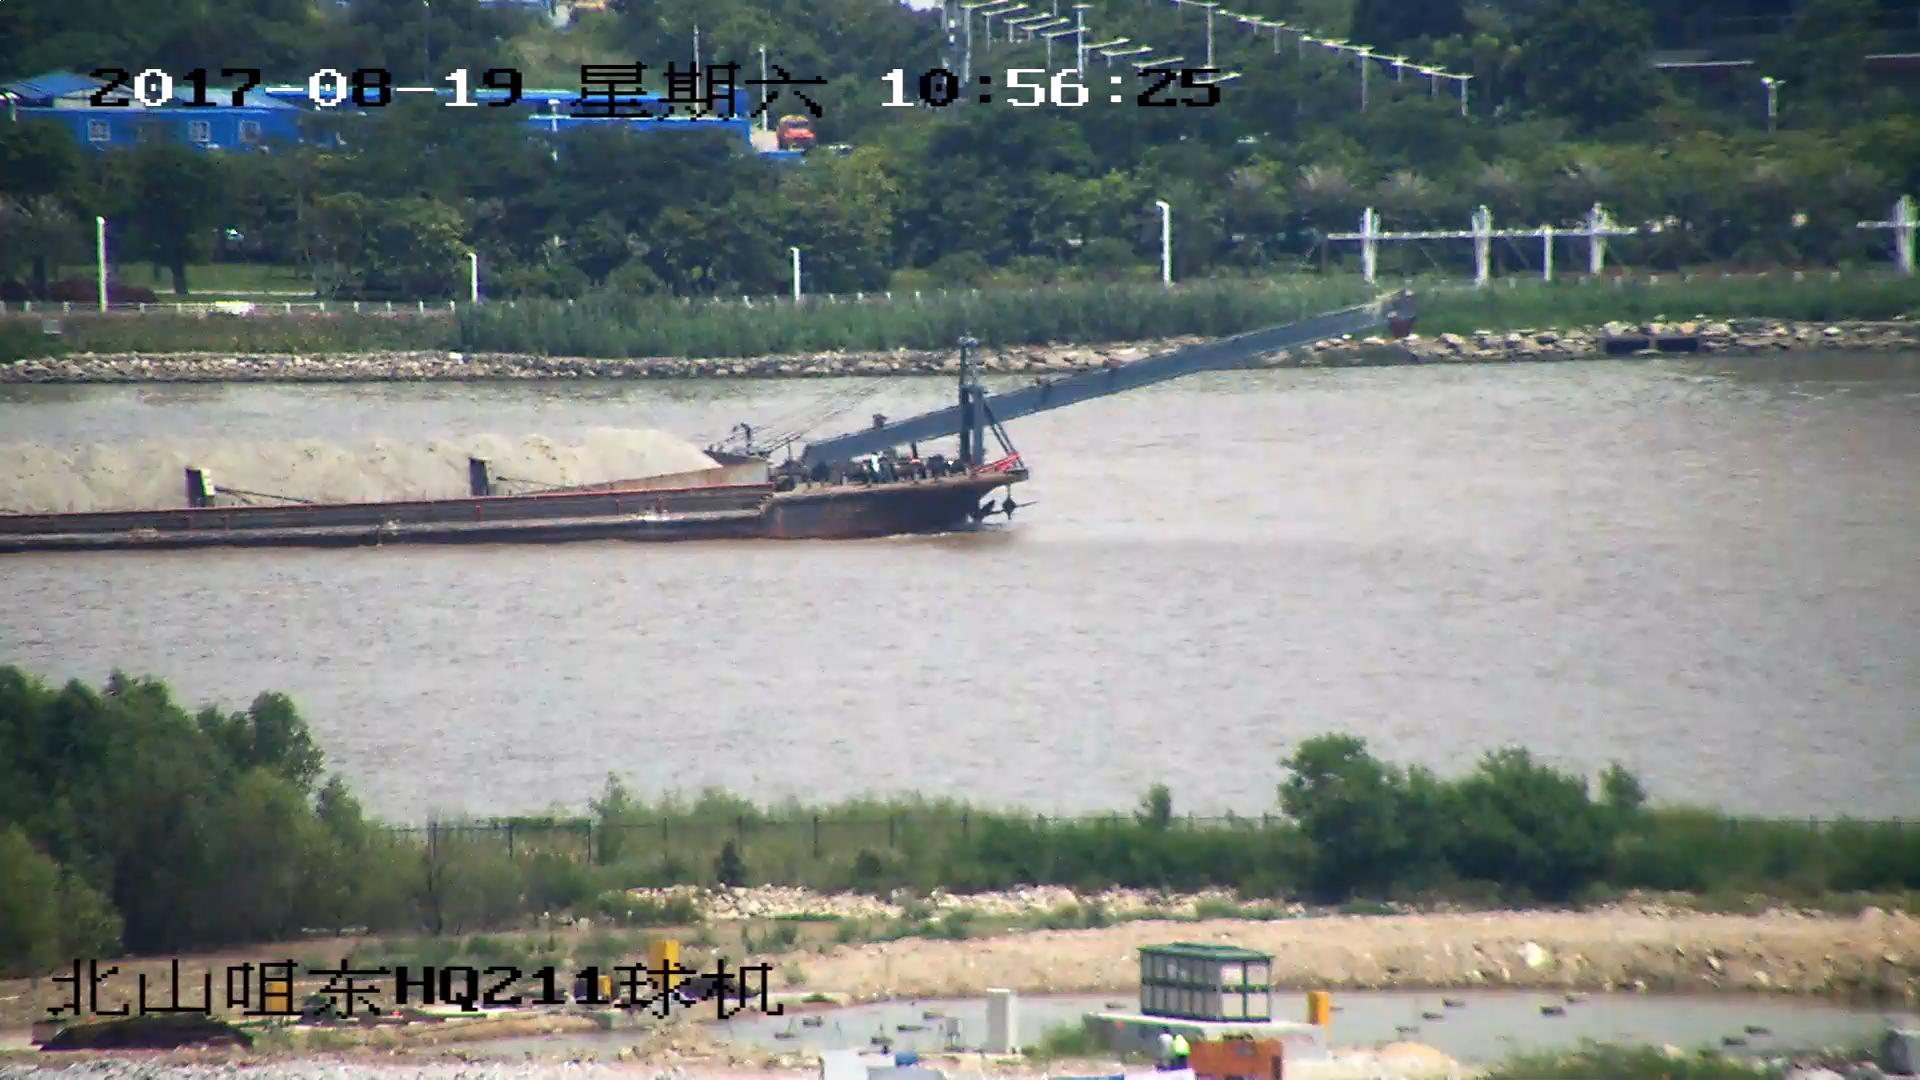Ship: (3, 293, 1408, 553)
